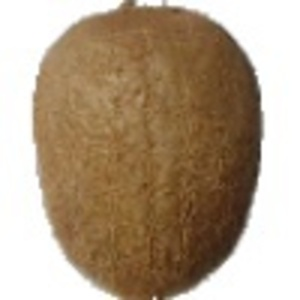kiwi: (27, 1, 264, 300)
